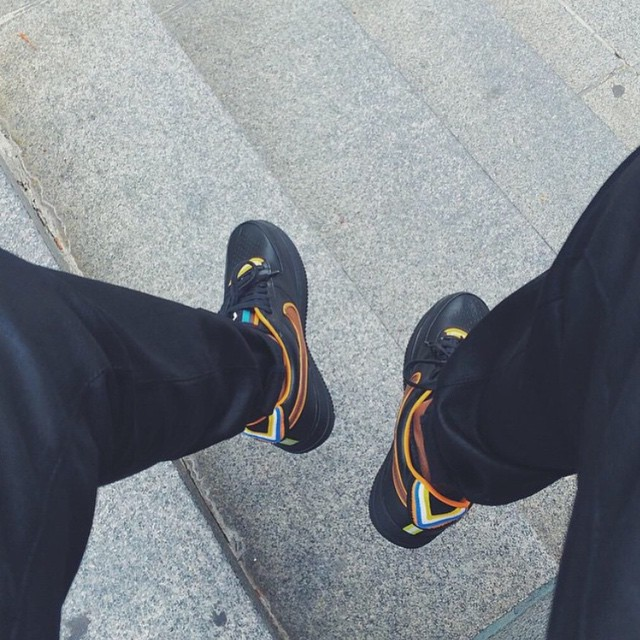sneaker: (352, 271, 519, 575), (195, 209, 345, 470)
